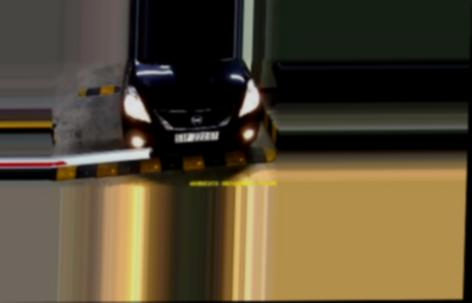License_Plate: (171, 130, 222, 146)
